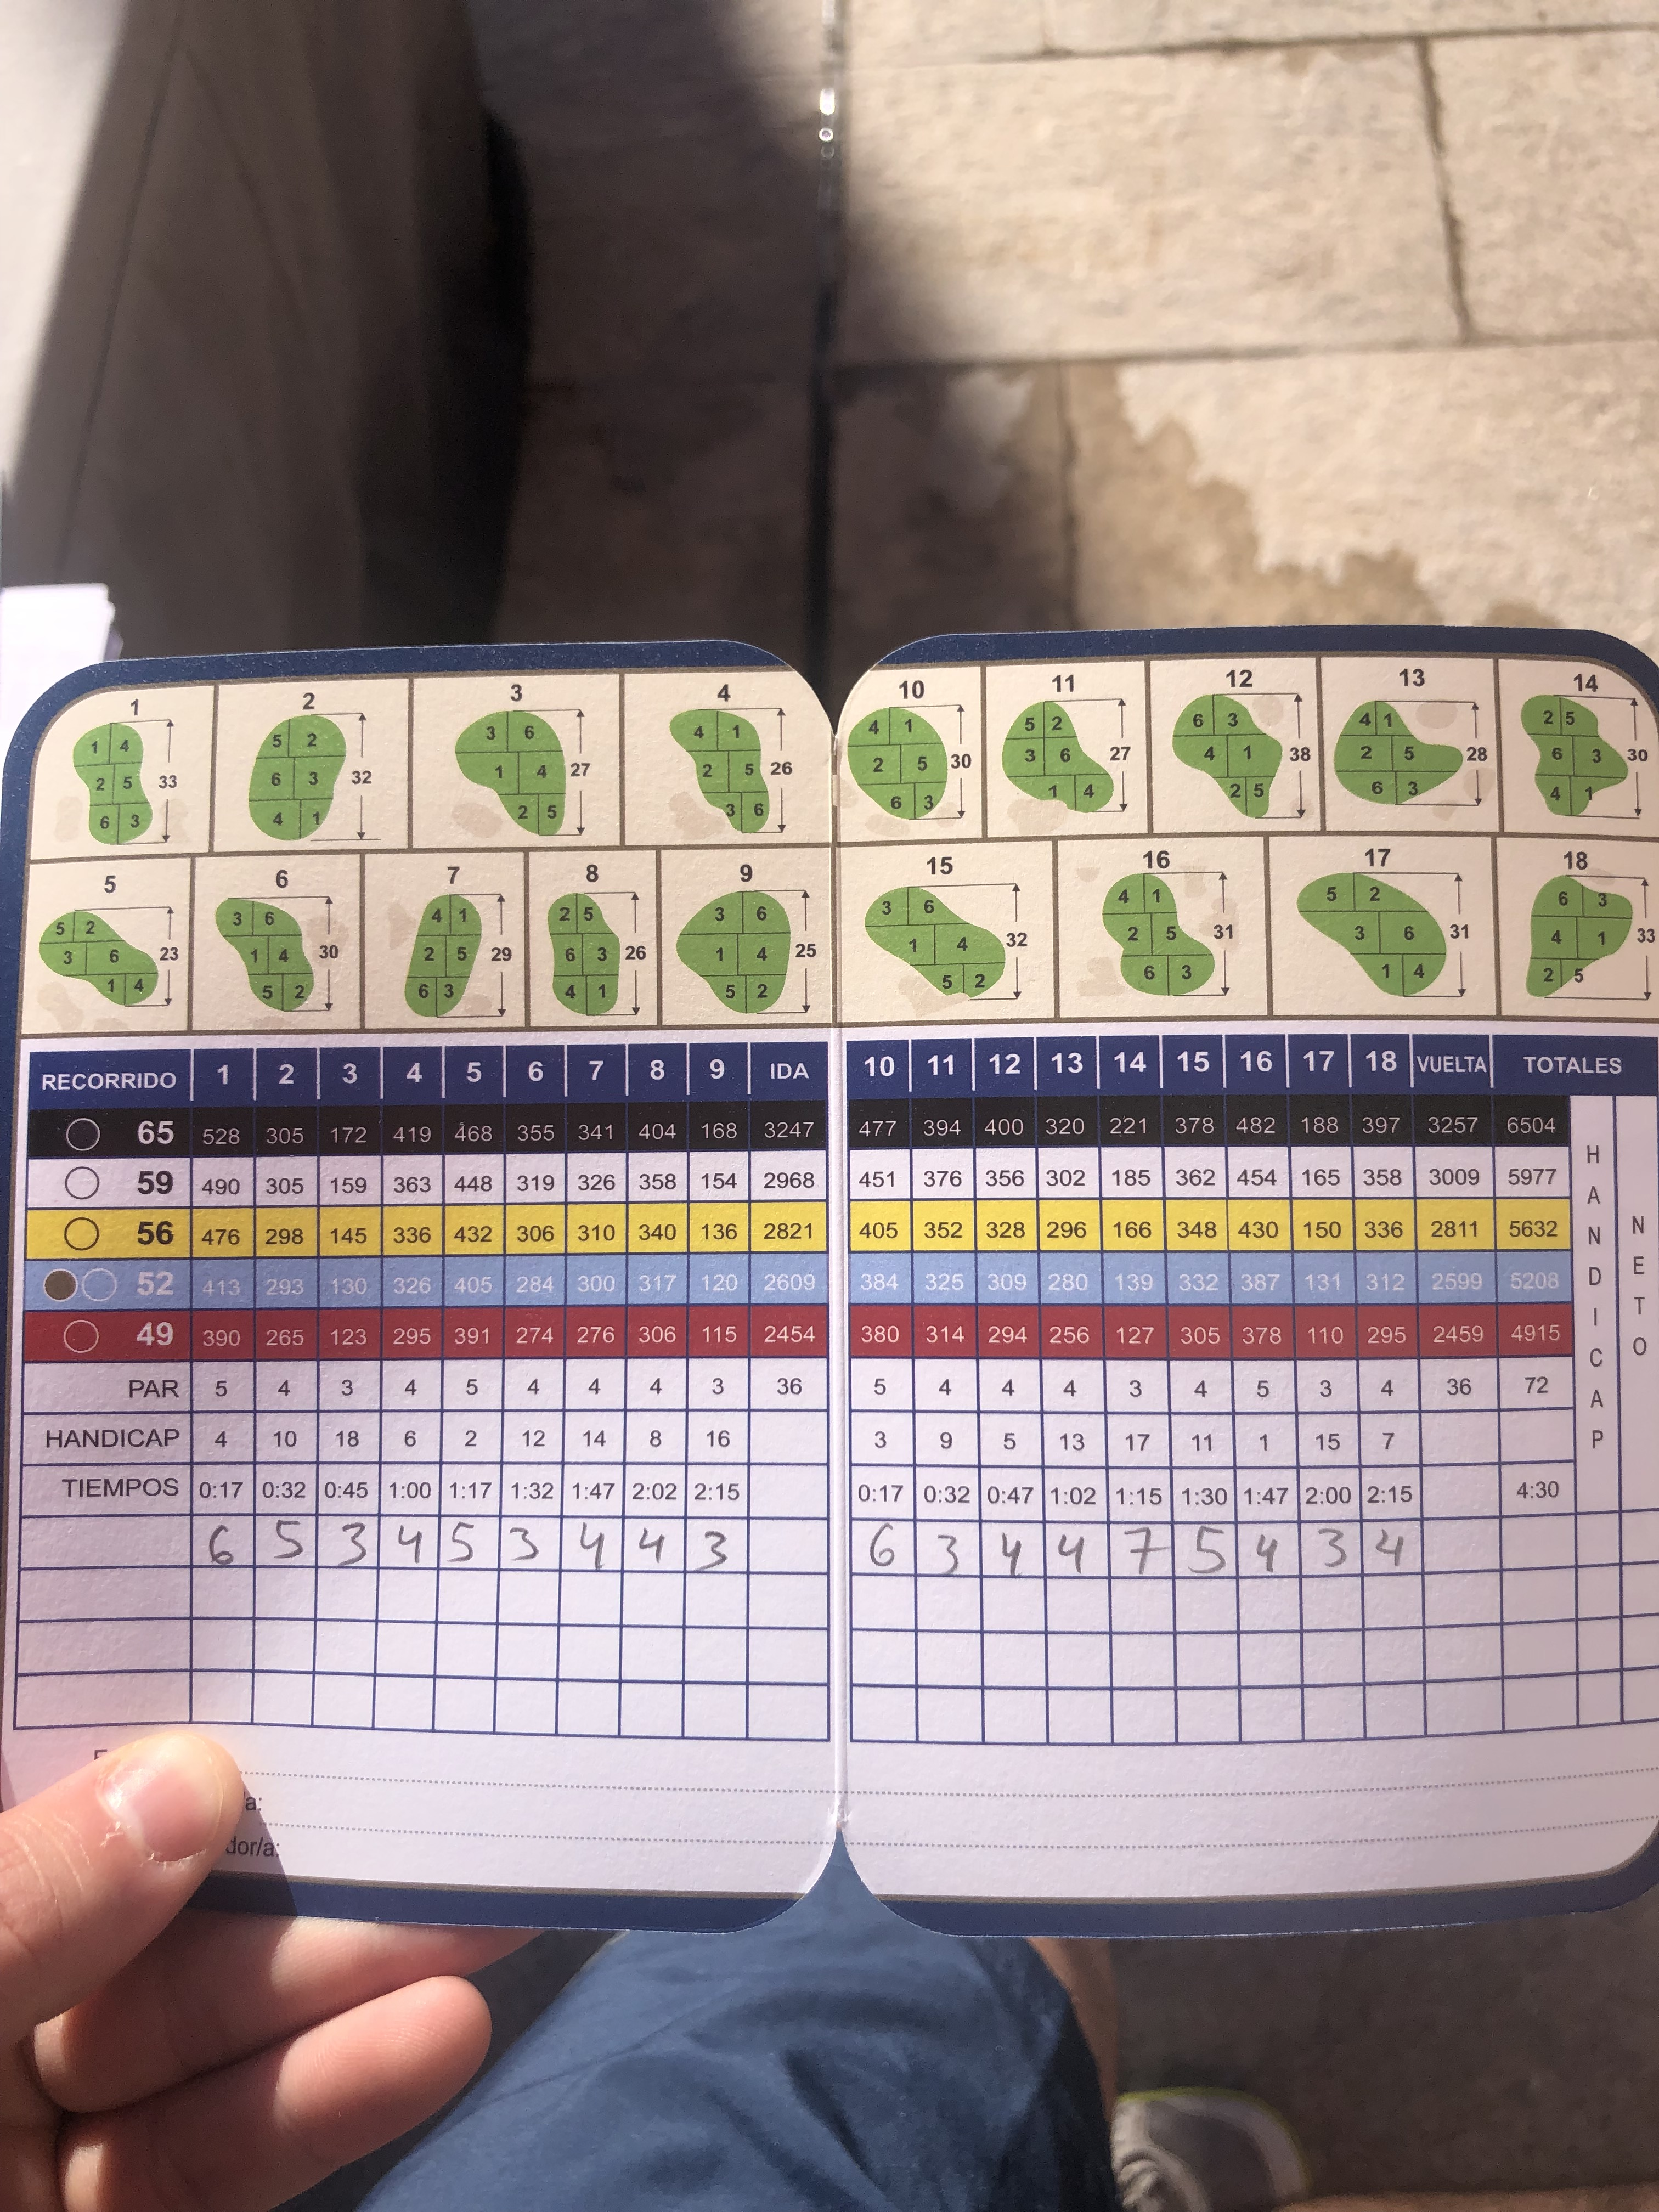par: (125, 1364, 1561, 1407)
score: (200, 1512, 1419, 1578)
